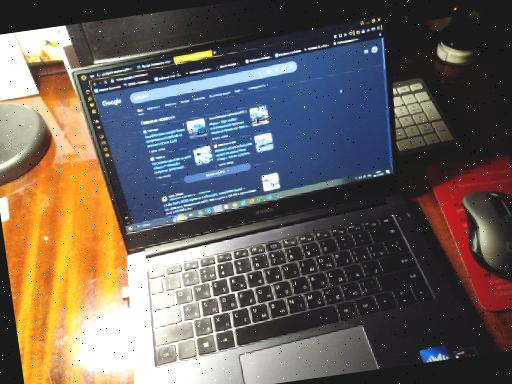google: (96, 54, 396, 212)
